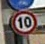limite 10: (10, 10, 37, 34)
